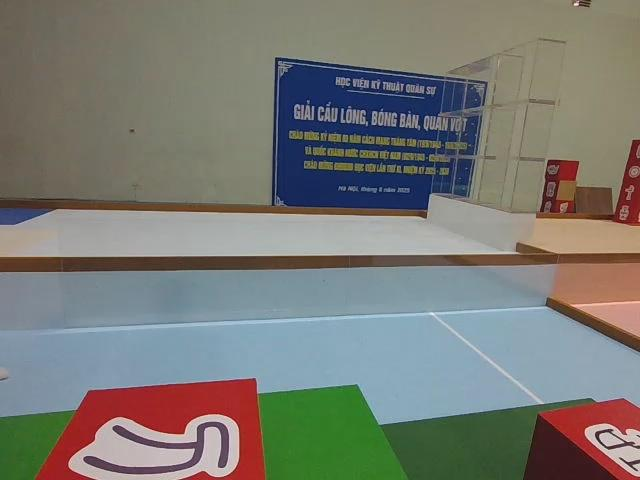R2 Fake: (29, 370, 268, 480)
